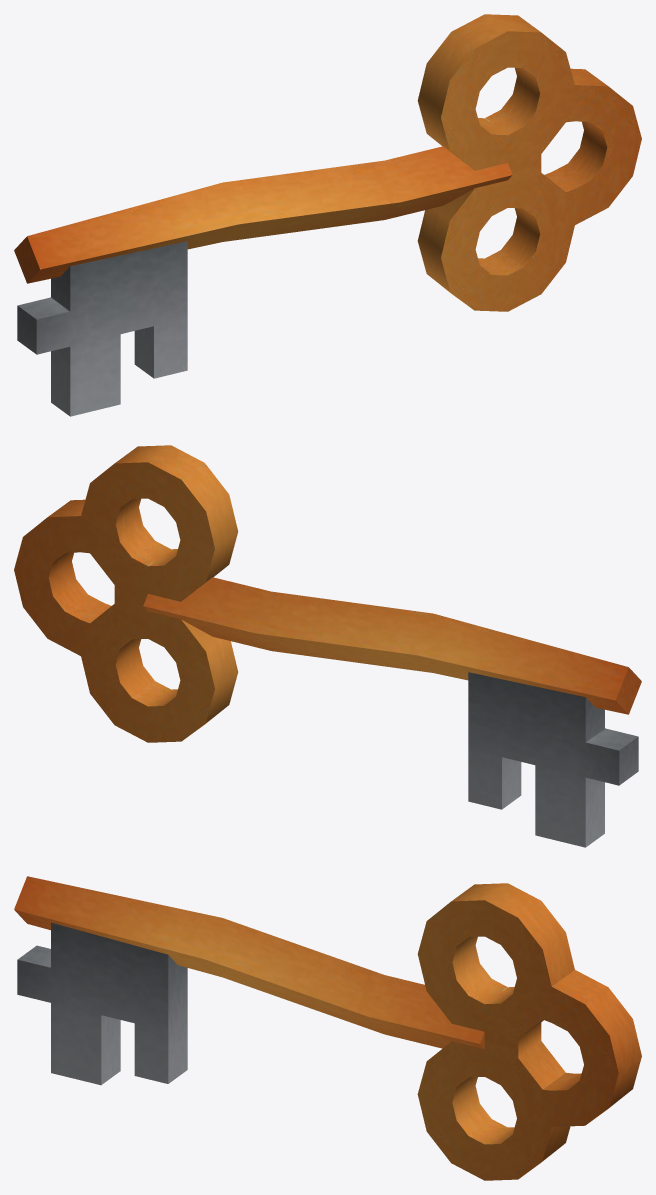
File: key.gltf
The picture shows the model from 3 angles, top to bottom: view 1: azimuth 30°, elevation 25°; view 2: azimuth 150°, elevation 25°; view 3: azimuth 330°, elevation 25°; orthographic projection.
Visible parts, largest first — view 1: Key; view 2: Key; view 3: Key.
Part boxes in pixels (<box>): Key: <box>14,14,641,416</box>; Key: <box>14,445,641,847</box>; Key: <box>14,876,641,1180</box>.
Bounding box in the file's own units: 0.54 × 0.24 × 0.0509.
Materials: 1 (1 with a texture image).
